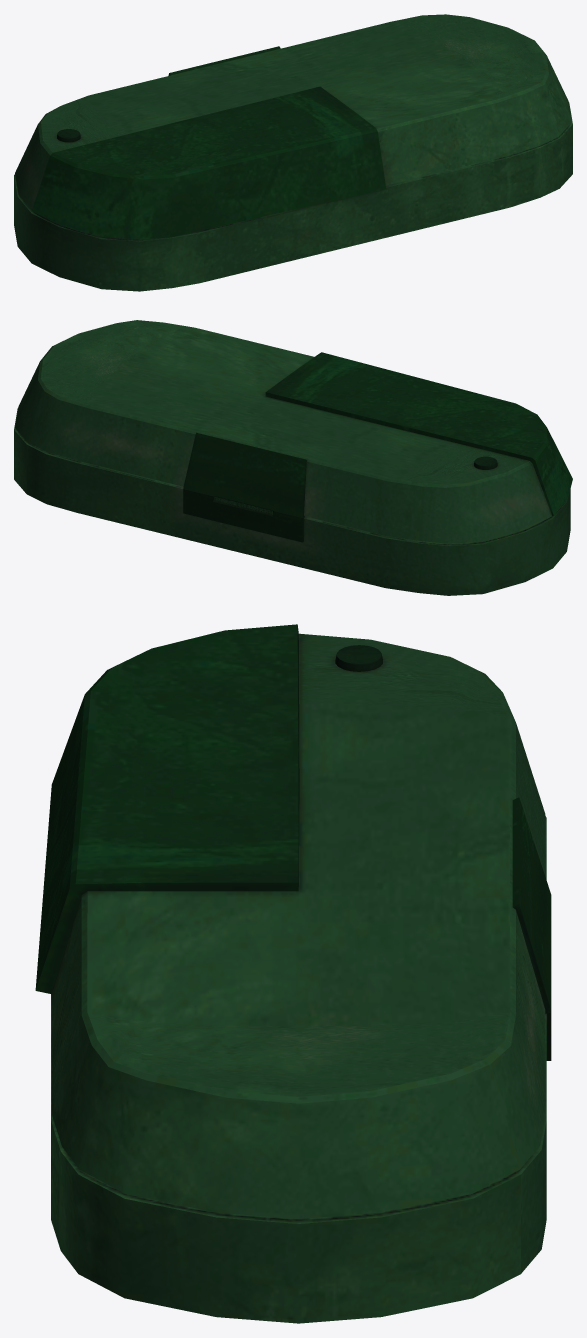
File: glassescase.dae
3 renders of one model, top to bottom at view 1: azimuth 30°, elevation 25°; view 2: azimuth 150°, elevation 25°; view 3: azimuth 270°, elevation 25°, orthographic. The views are drawn at different scales.
Parts seen in each view (by area): view 1: glassescase; view 2: glassescase; view 3: glassescase.
Part boxes in pixels (bbox=[...]): glassescase: bbox=[14, 14, 572, 291]; glassescase: bbox=[14, 320, 572, 595]; glassescase: bbox=[35, 624, 551, 1323].
Size of the model in its own units: 10.11 by 1.97 by 4.33.
